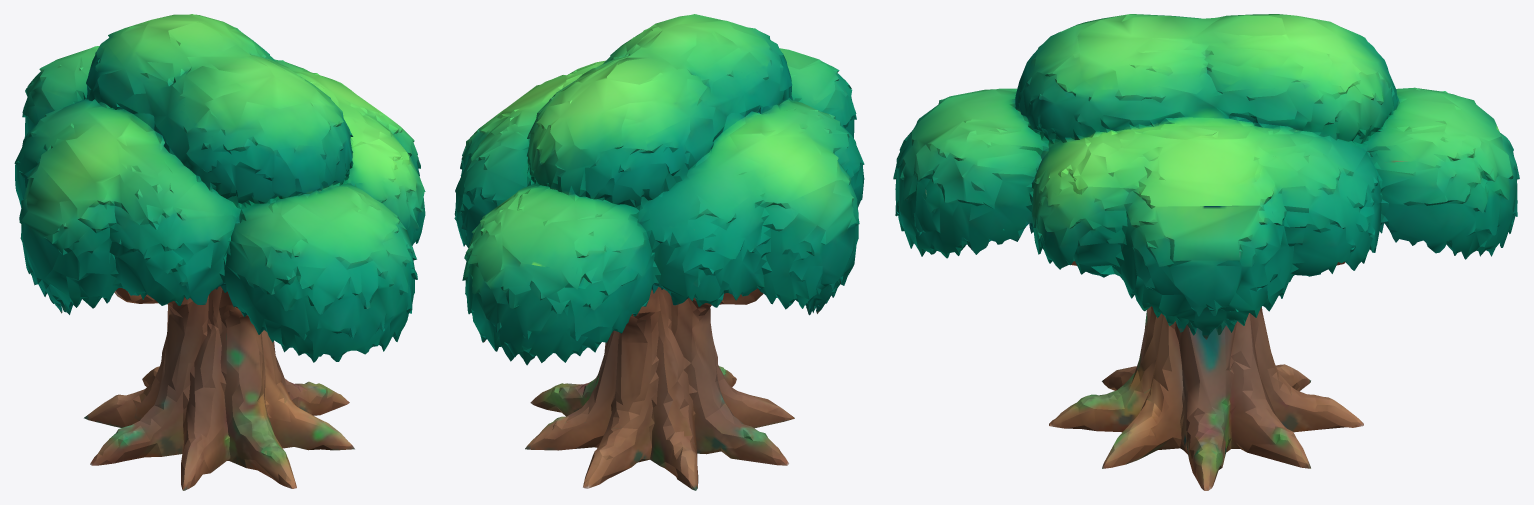
Rendered from broadleaf.glb.
3 views of the same model, side by side, from view 1: azimuth 30°, elevation 25°; view 2: azimuth 150°, elevation 25°; view 3: azimuth 270°, elevation 25° (orthographic). The views are drawn at different scales.
Parts seen in each view (by area): view 1: Rodin_tree_test; view 2: Rodin_tree_test; view 3: Rodin_tree_test.
Boxes of the visible parts, x1,y1,x2,y2 form: Rodin_tree_test: (14,14,425,490); Rodin_tree_test: (454,14,864,490); Rodin_tree_test: (893,14,1519,490).
Size of the model in its own units: 1.34 by 1.34 by 1.89.
Materials: 1 (1 with a texture image).
